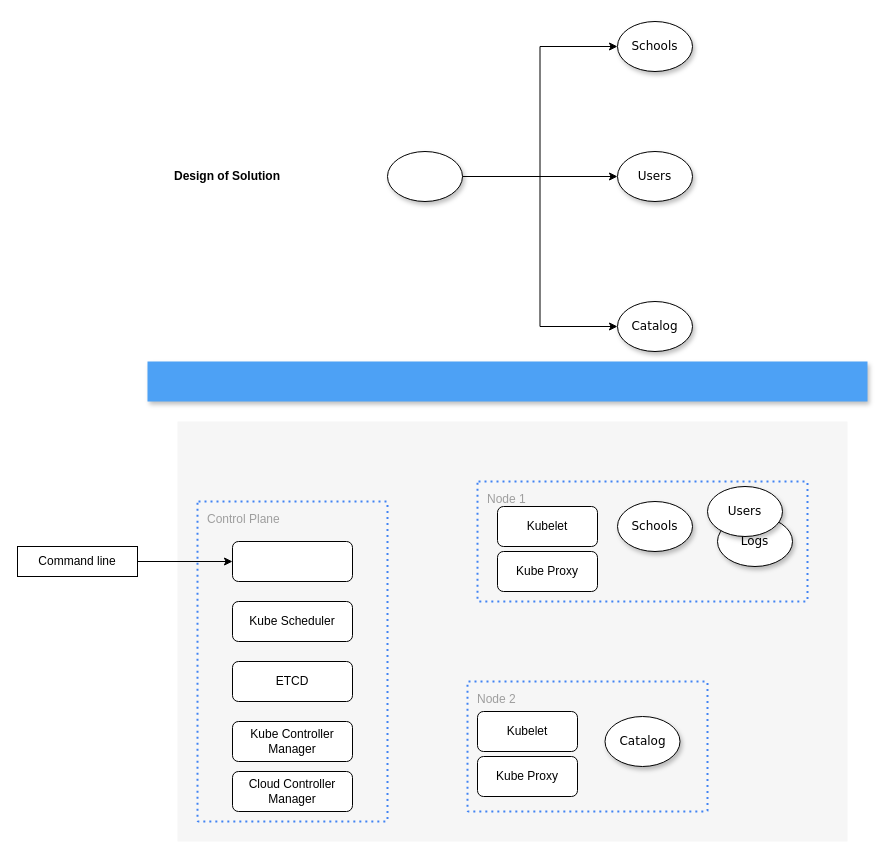
This 891x859 diagram has some shape labels left out. Each missing label, with the centre of its shape:
"FrontEnd" goes at (425,177).
"K8S Basics" goes at (508,382).
"Kube API Server" goes at (292,561).
